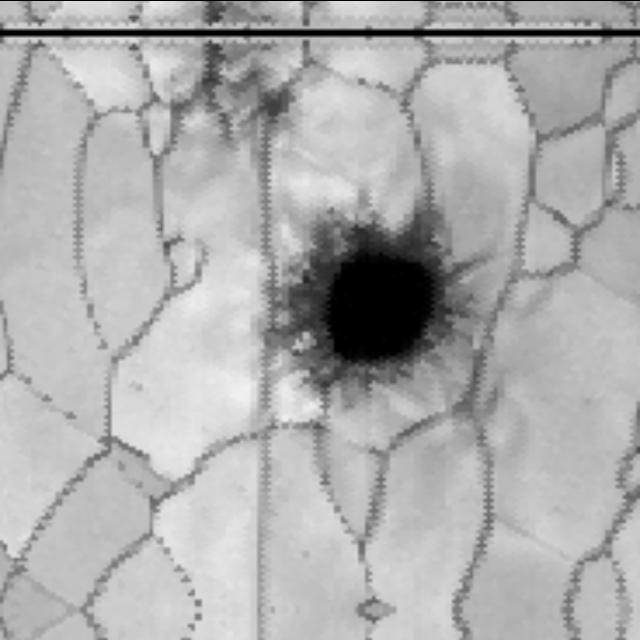good_void: (234, 160, 513, 430), (165, 26, 326, 168)
